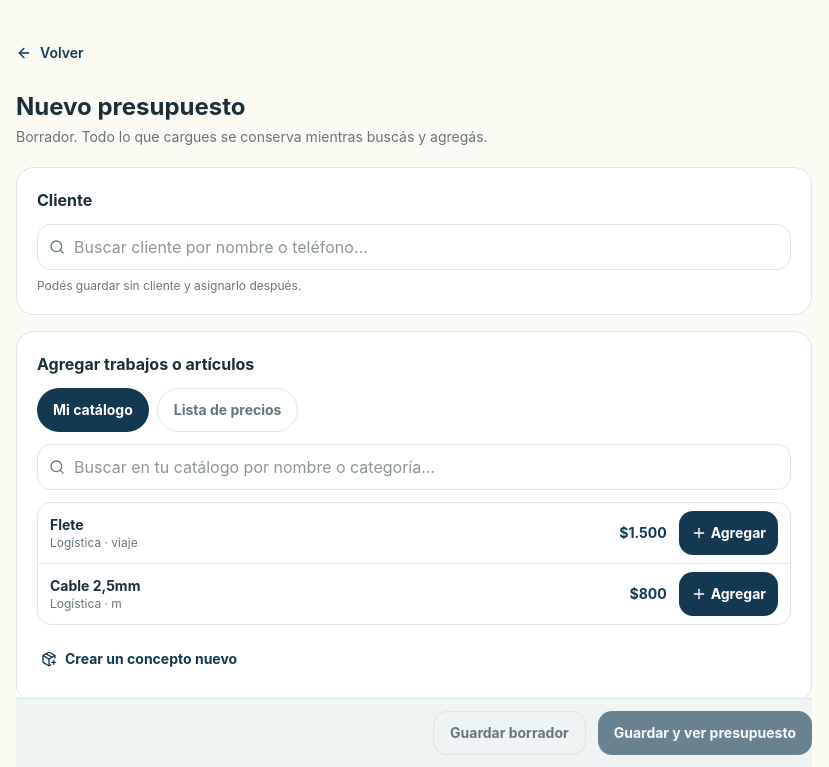
Test: líneas y conceptos propios › quitar una línea se puede deshacer
This screenshot has width=829, height=767.
Step 1. Click the button with aria-label "Agregar Flete" → click(728, 533), box [679, 511, 778, 555]
(page scrolled)
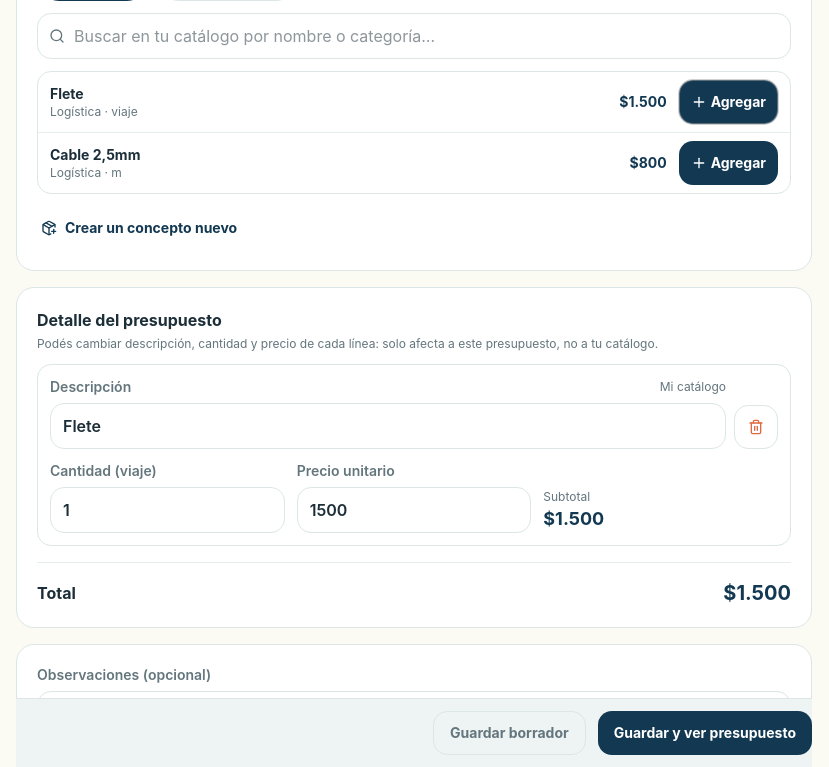
Step 2. Click the button named "Quitar Flete" → click(756, 427), box [734, 405, 778, 449]
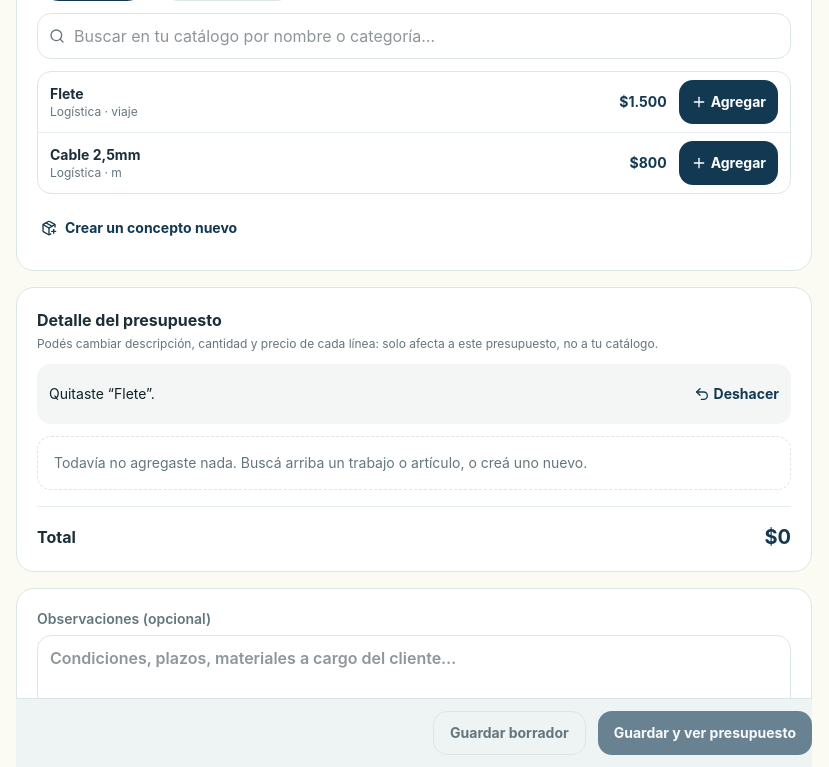
Step 3. Click the button "Deshacer" → click(736, 394), box [694, 372, 779, 416]
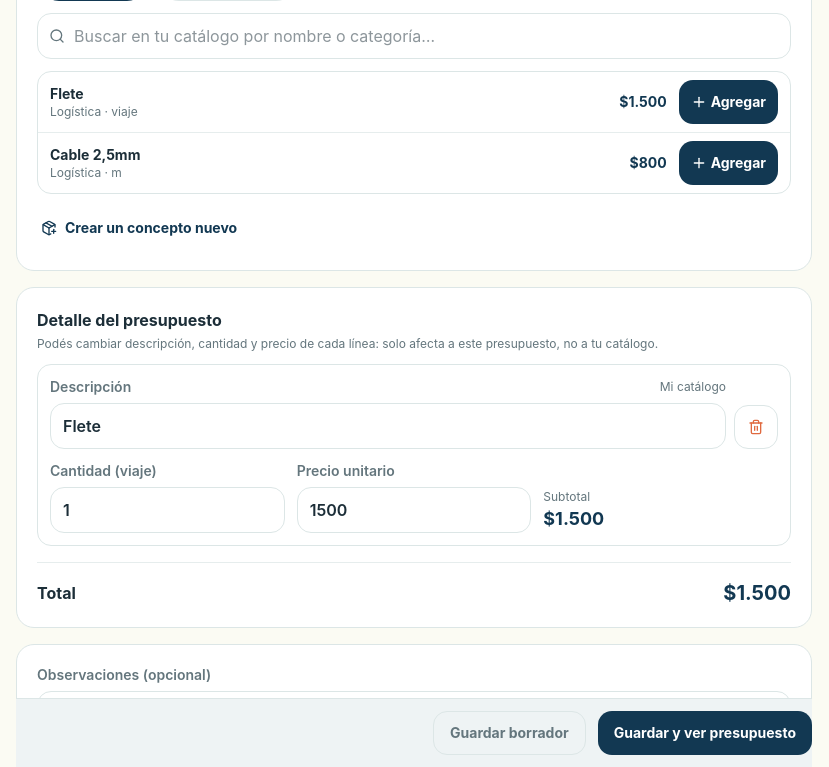
Expected: the field showing "Flete" is shown, [50, 403, 726, 449]
